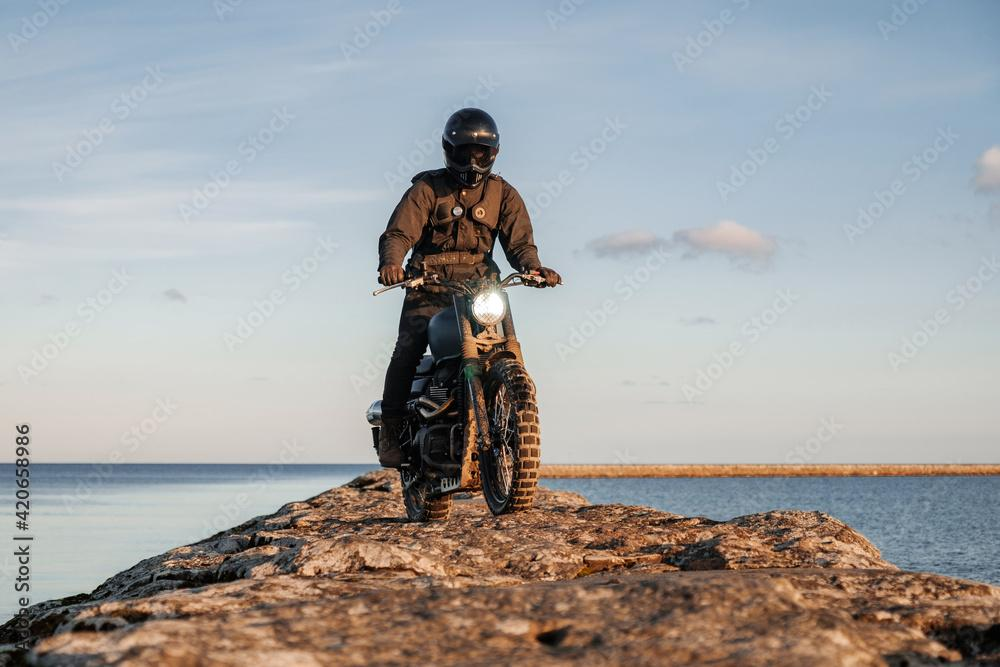helmet: (441, 107, 501, 190)
